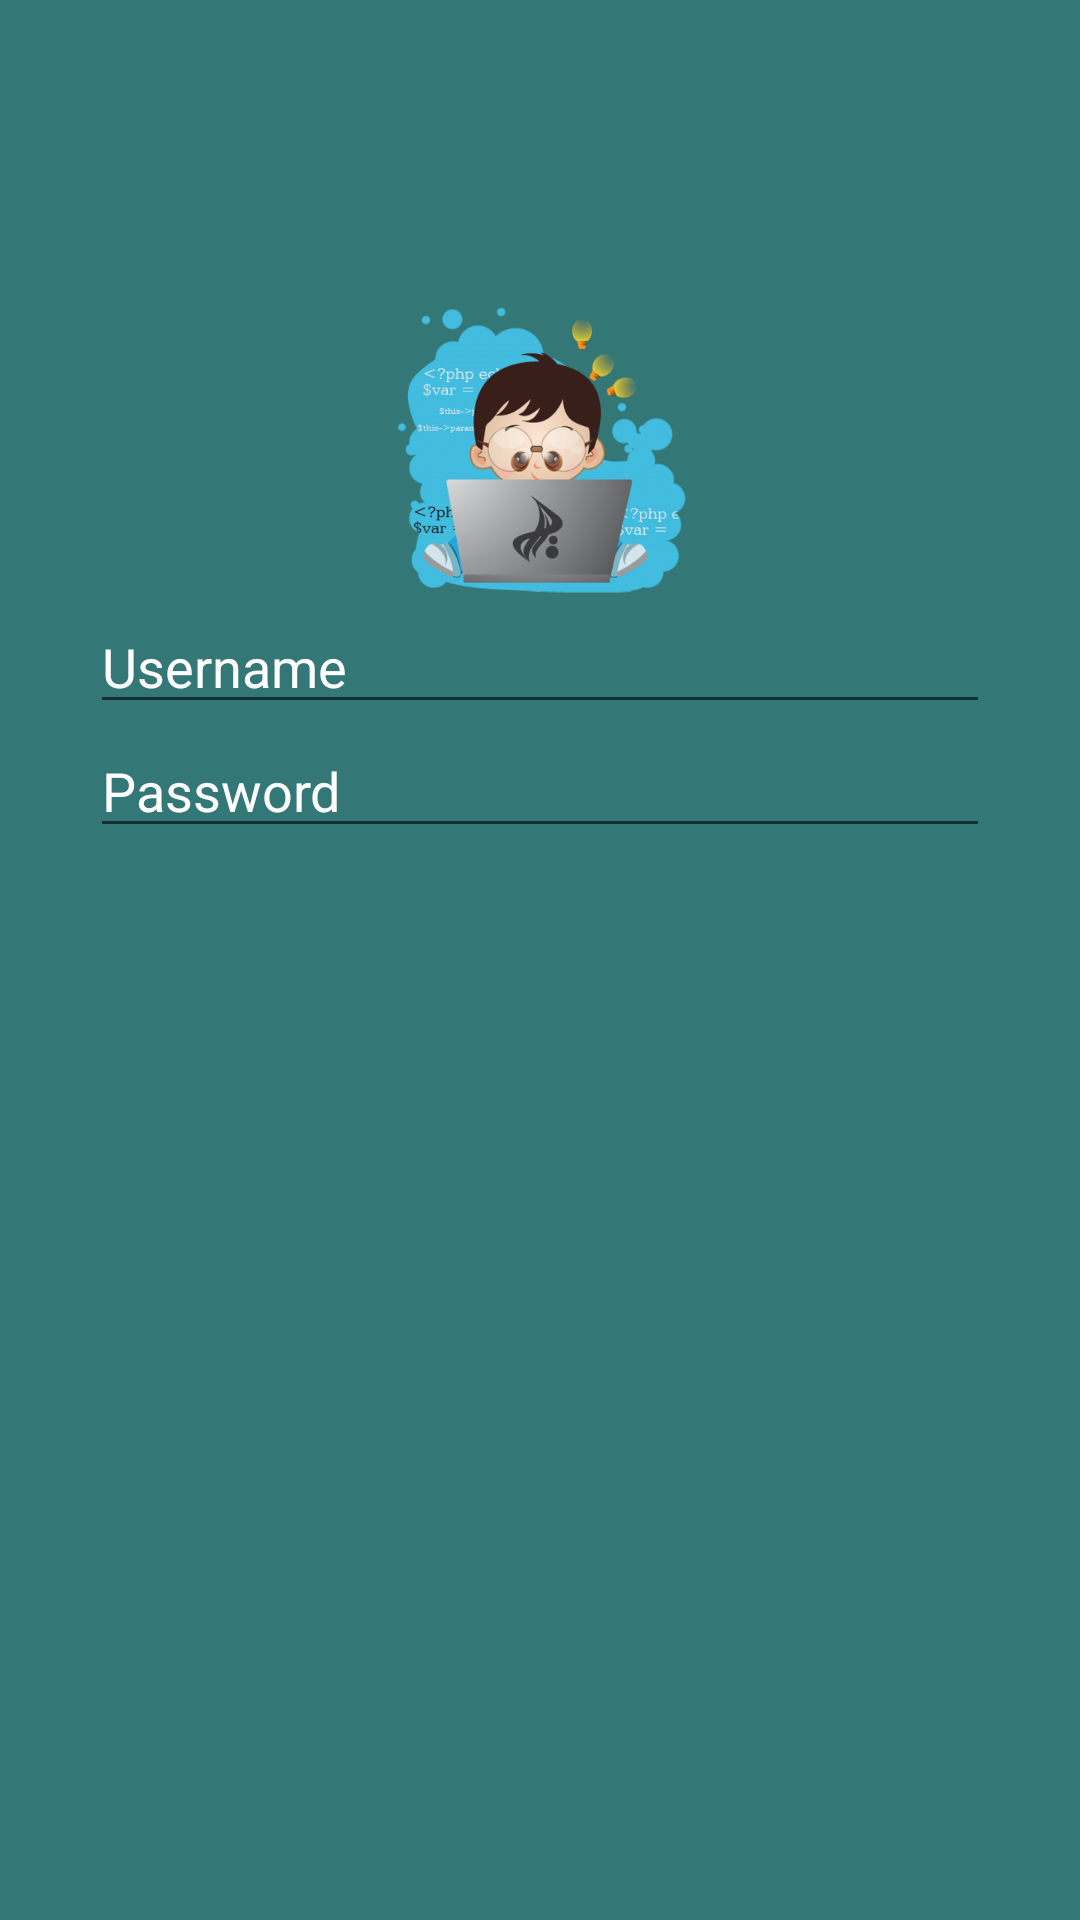

Point at icon controls on the screen. Image size 1080x1920, points as [x,y].
photo: [541,450]
